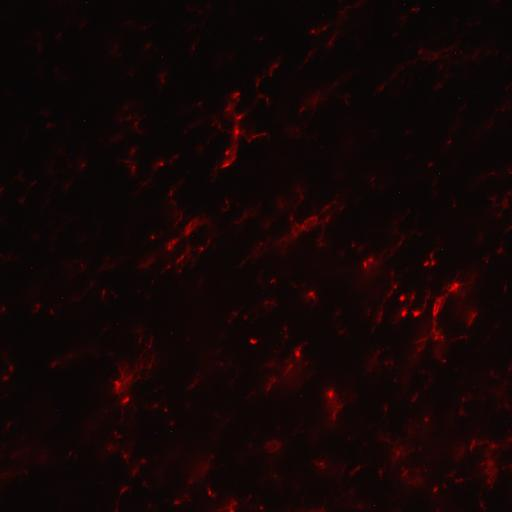microglia: (429, 293, 444, 317), (108, 376, 124, 394), (262, 440, 282, 454), (498, 98, 512, 118), (499, 191, 512, 212), (445, 282, 461, 296), (268, 60, 280, 78), (326, 35, 340, 49), (186, 220, 196, 237), (294, 188, 305, 202), (228, 309, 238, 324), (132, 117, 142, 131), (20, 464, 30, 478), (17, 193, 32, 202), (434, 78, 443, 93), (292, 347, 304, 358), (398, 308, 410, 319), (478, 500, 490, 511), (368, 173, 378, 186), (502, 78, 512, 91), (450, 196, 458, 212), (413, 306, 422, 320), (186, 383, 200, 392), (442, 139, 456, 148), (325, 389, 336, 400), (296, 107, 307, 118), (247, 335, 259, 345), (498, 245, 508, 257), (500, 282, 510, 294), (349, 466, 362, 475), (469, 309, 477, 323), (376, 468, 384, 482), (278, 194, 286, 208), (152, 398, 160, 412), (120, 398, 132, 407), (384, 360, 396, 369), (2, 304, 9, 319), (79, 260, 87, 273), (130, 147, 140, 157), (426, 158, 436, 168), (395, 239, 404, 250), (321, 24, 330, 35), (264, 300, 280, 306), (80, 160, 88, 172), (5, 418, 13, 430), (190, 42, 198, 54), (483, 253, 490, 266), (177, 254, 186, 264), (404, 126, 413, 136), (307, 291, 318, 299), (228, 504, 239, 512), (286, 362, 294, 373), (383, 403, 391, 414), (410, 396, 421, 404), (455, 477, 466, 485), (458, 334, 470, 341), (399, 294, 407, 304), (421, 258, 429, 268), (222, 160, 230, 170), (339, 329, 347, 339), (310, 26, 316, 39), (0, 182, 5, 197), (318, 460, 327, 468), (188, 477, 196, 486), (412, 6, 421, 14), (366, 307, 372, 319), (334, 309, 342, 318), (363, 258, 370, 268), (422, 414, 429, 424), (50, 359, 57, 369), (487, 476, 494, 486), (109, 507, 123, 512), (209, 453, 216, 463), (307, 216, 318, 222), (292, 227, 298, 238), (378, 311, 384, 322), (332, 412, 340, 420), (233, 128, 241, 136), (270, 276, 278, 284), (143, 482, 151, 490), (258, 240, 266, 248), (369, 256, 376, 265), (459, 410, 466, 419), (166, 240, 171, 252), (300, 218, 304, 233), (34, 302, 40, 312), (166, 262, 172, 272), (250, 388, 256, 398), (392, 284, 399, 292), (433, 486, 440, 494), (208, 488, 215, 496), (106, 445, 114, 452), (434, 332, 440, 341), (417, 346, 423, 355), (430, 323, 436, 332), (244, 314, 250, 323), (418, 47, 424, 56), (489, 460, 494, 470), (199, 246, 206, 253), (158, 160, 165, 167), (318, 242, 325, 249), (114, 432, 120, 440), (267, 386, 275, 392), (234, 114, 242, 120), (234, 91, 240, 99), (170, 418, 176, 426), (460, 396, 466, 404), (175, 500, 181, 507), (468, 444, 474, 451), (225, 198, 230, 206), (326, 214, 331, 222), (403, 470, 408, 478), (376, 348, 381, 356), (430, 259, 436, 265), (396, 451, 402, 457), (8, 364, 14, 370), (48, 309, 54, 315), (142, 458, 148, 464), (131, 165, 137, 171), (259, 504, 264, 511), (133, 470, 138, 477), (225, 149, 230, 156), (492, 442, 497, 449), (148, 502, 152, 510), (163, 408, 168, 414), (122, 486, 127, 492), (102, 288, 107, 294), (172, 238, 176, 245), (351, 243, 356, 248), (152, 236, 156, 242), (169, 191, 175, 195), (324, 205, 330, 209), (286, 334, 290, 340), (290, 214, 293, 221), (271, 377, 276, 381), (226, 106, 230, 111), (472, 440, 476, 444), (441, 335, 444, 340), (5, 376, 8, 380), (124, 454, 127, 458), (69, 450, 71, 456), (285, 326, 288, 330)
